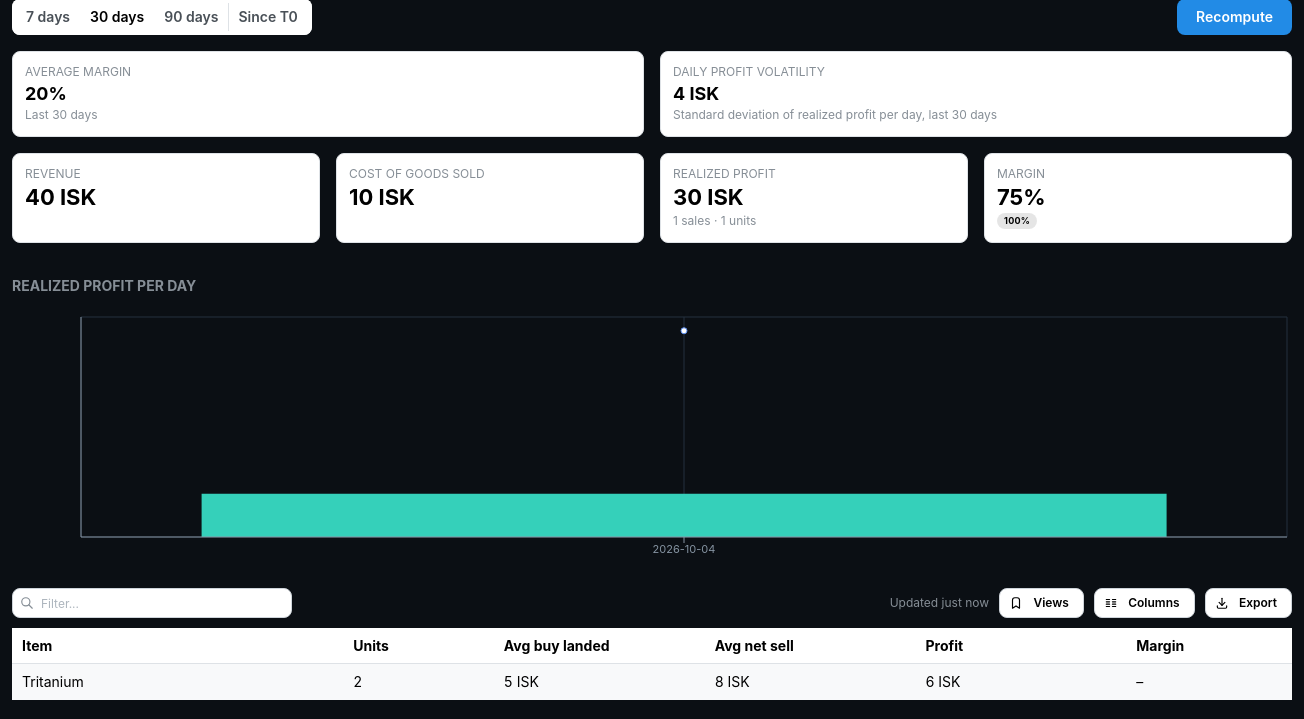
Trading realized profit page › drills from an item to its sale and the purchase lot
Click the text "Tritanium".
click(53, 681)  # box [12,664,343,700]
(page scrolled)
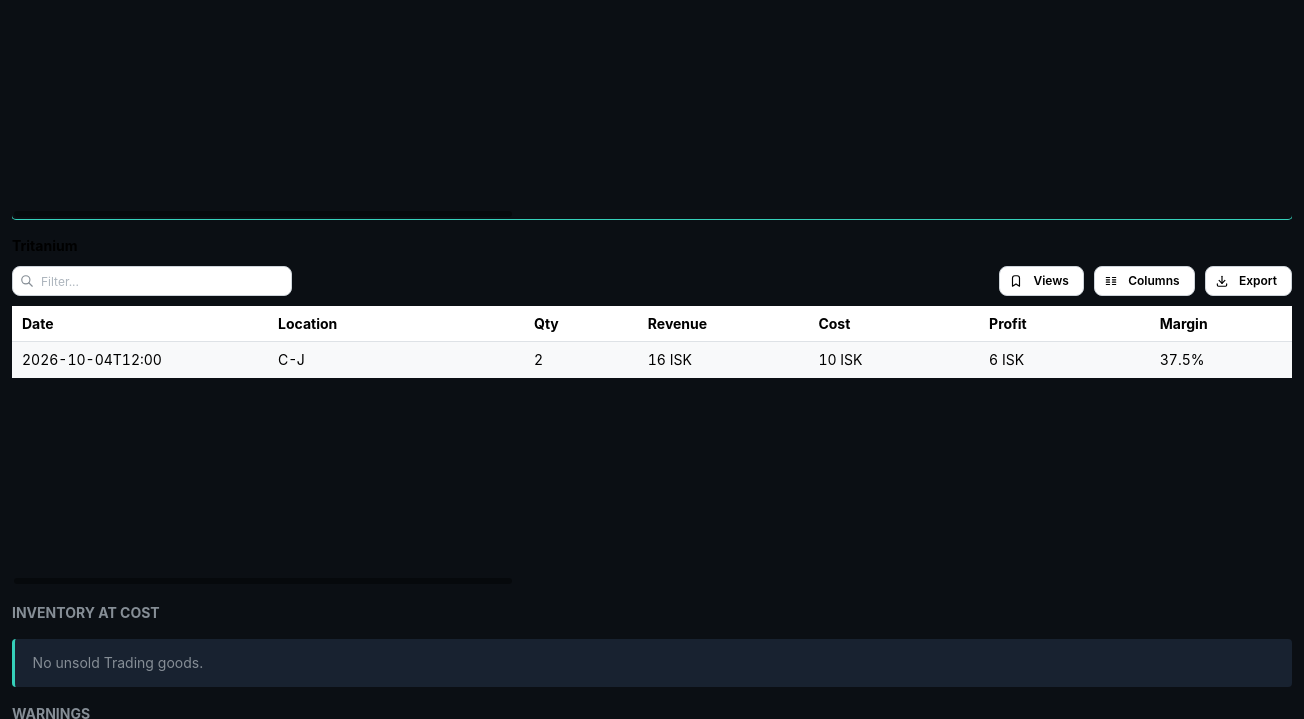
Expected: the text "C-J" is shown
Click the text "C-J".
click(291, 359)  # box [268,342,524,378]
(page scrolled)
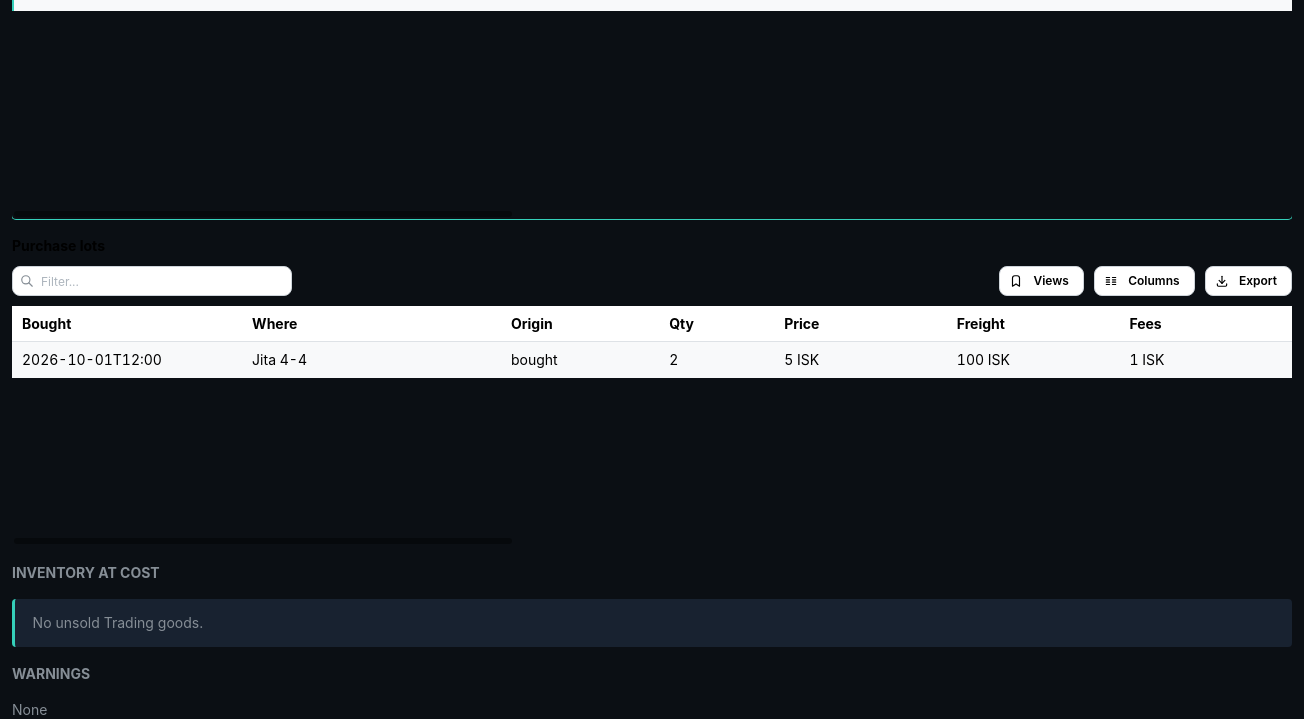
Expected: the text "Jita 4-4" is shown, [242,342,501,378]
Expected: the text "100 ISK" is shown, [947,342,1119,378]
